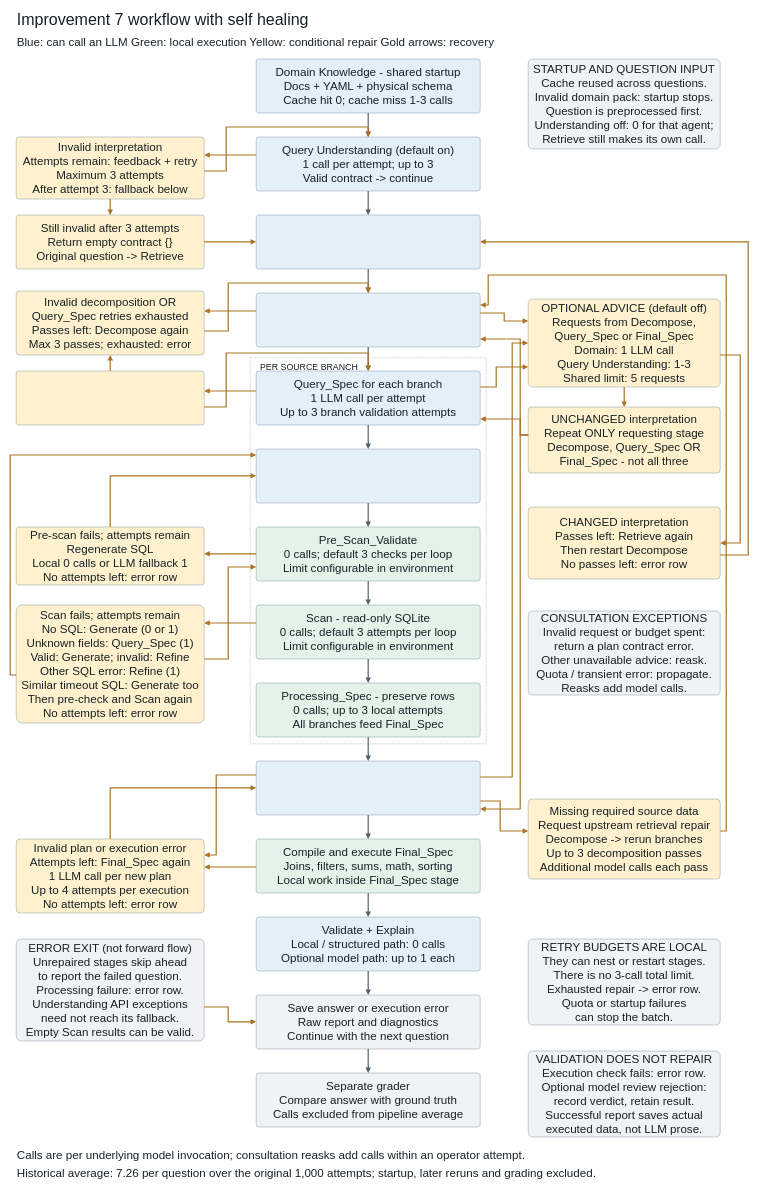
Image size: 759x1192. Some labels were removed from this diagram. The box of each missing label's shape, as (x1, y1, x2, y2) in pixels:
Decompose Plan B source branches 1 LLM call per invocation: (256, 293, 480, 347)
Final_Spec Build the calculation plan 1 LLM call per attempt: (256, 761, 480, 815)
Generate SQL Local renderer succeeds: 0 calls Otherwise: 1 LLM call: (256, 449, 480, 503)
Invalid Query_Spec Attempts remain: feedback + retry 3 failures: replan upstream: (16, 371, 204, 425)
Retrieve Select source tables 1 LLM call per invocation: (256, 215, 480, 269)
